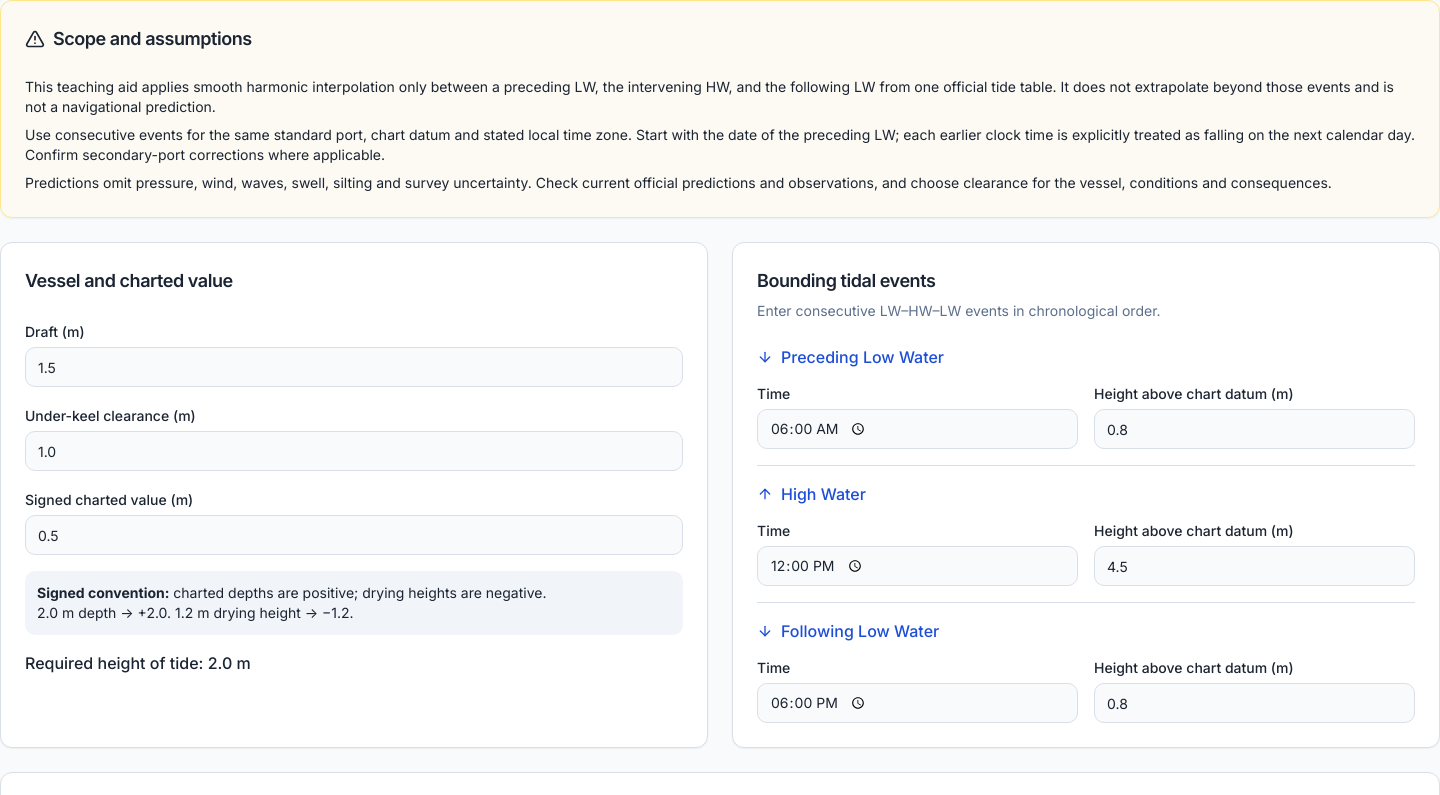
Test: TidalPassageCalculator rendering contract › suppresses result geometry for invalid inputs
Clear the number field with id "draft" at (354, 367), box [25,347,683,387]
(page scrolled)
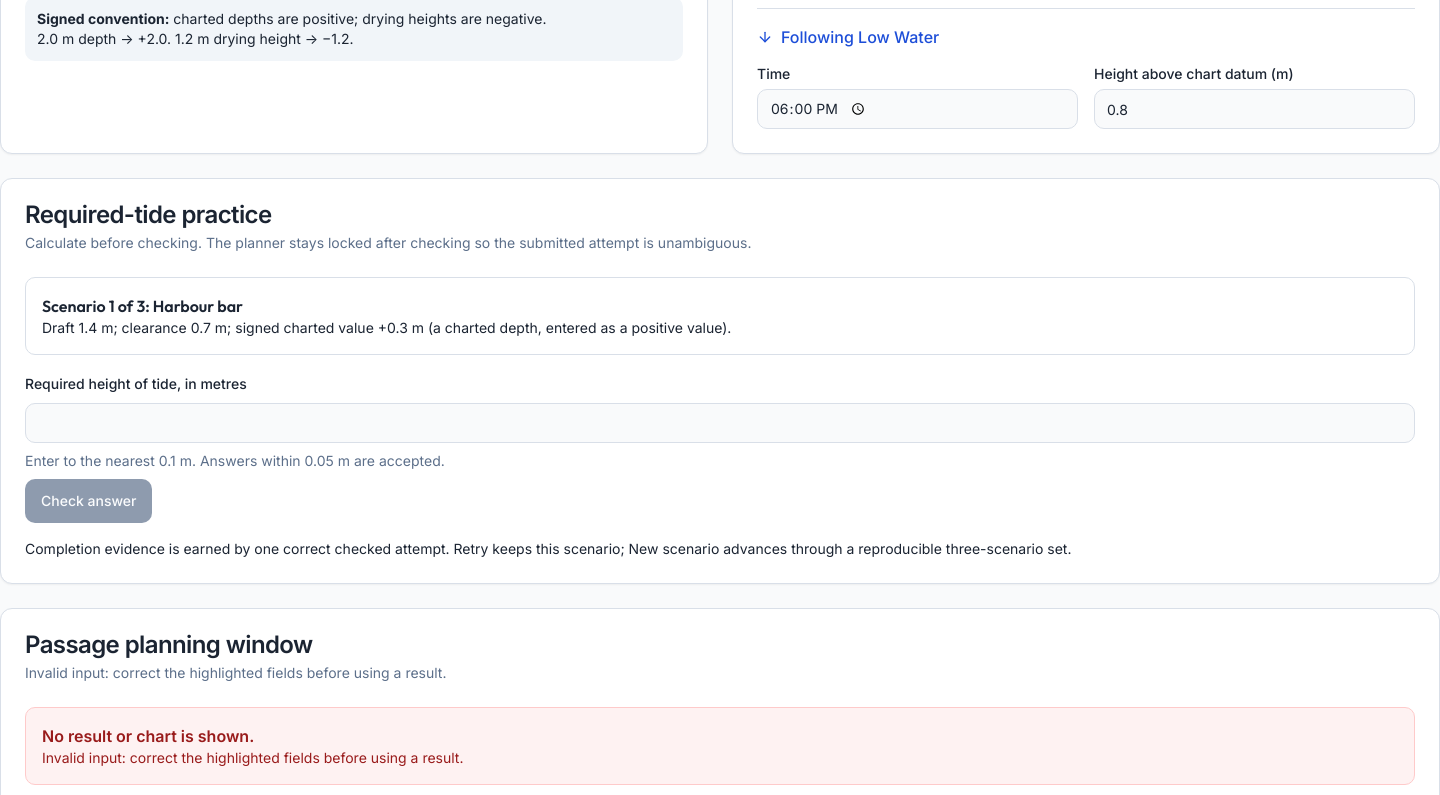
Expected: the message shows "No result or chart is shown", [42,726,254,746]
